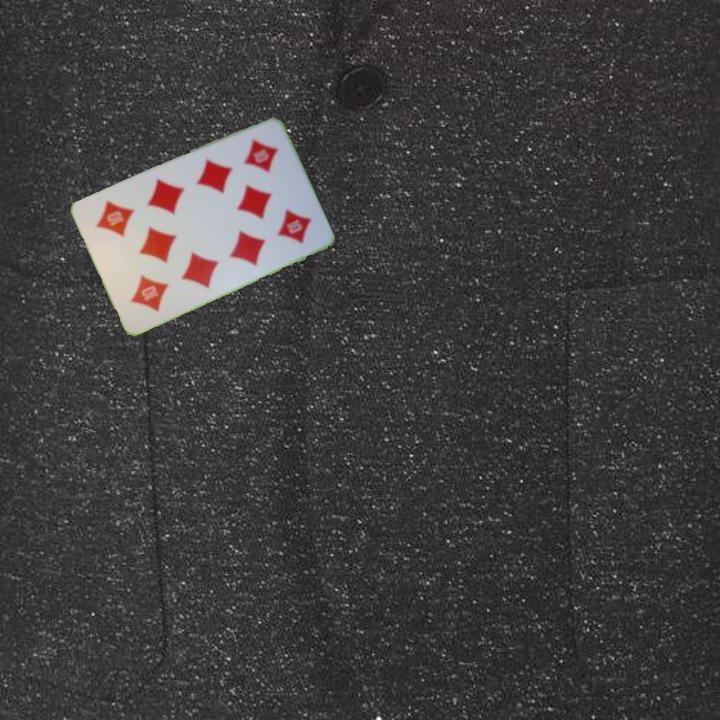d_10.png: (106, 242, 184, 326), (221, 124, 299, 207)
